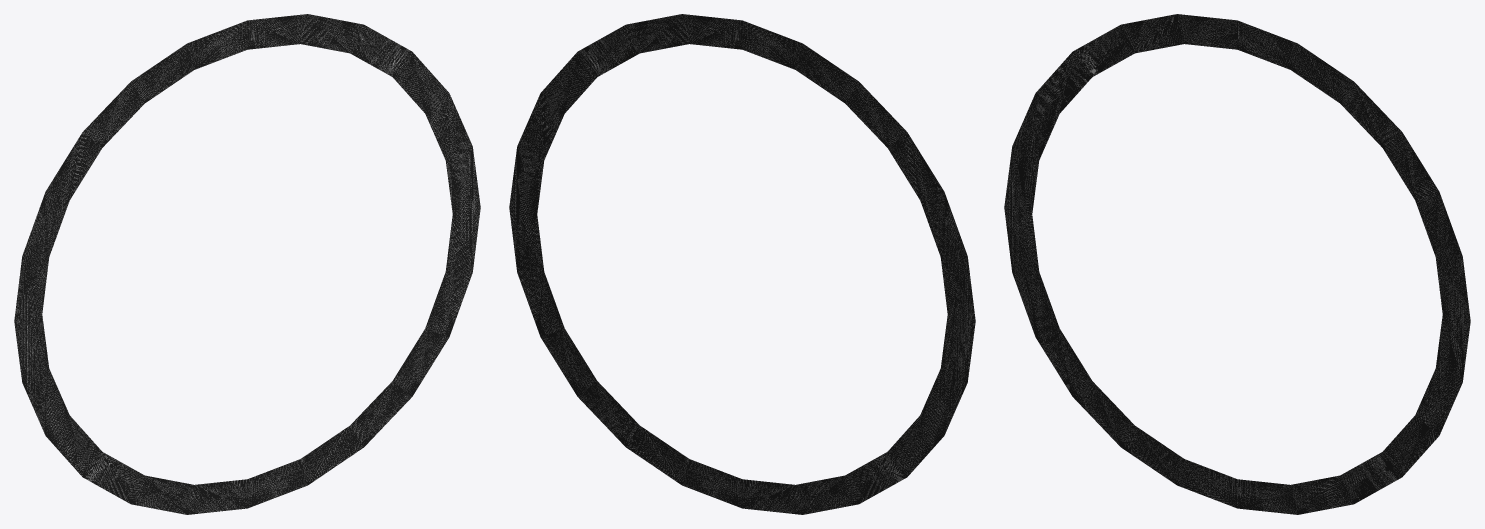
Rendered from original-32.obj.
3 renders of one model, left to right at view 1: azimuth 30°, elevation 25°; view 2: azimuth 150°, elevation 25°; view 3: azimuth 330°, elevation 25°, orthographic.
Visible parts, largest first — view 1: #ID216; view 2: #ID216; view 3: #ID216.
Boxes of the visible parts, box(x1,y1,x2,y2) form: #ID216: box(14, 14, 480, 514); #ID216: box(509, 14, 975, 514); #ID216: box(1004, 14, 1470, 514).
Bounding box in the file's own units: 0.0166 × 0.0166 × 0.
Materials: 2 (1 with a texture image).
